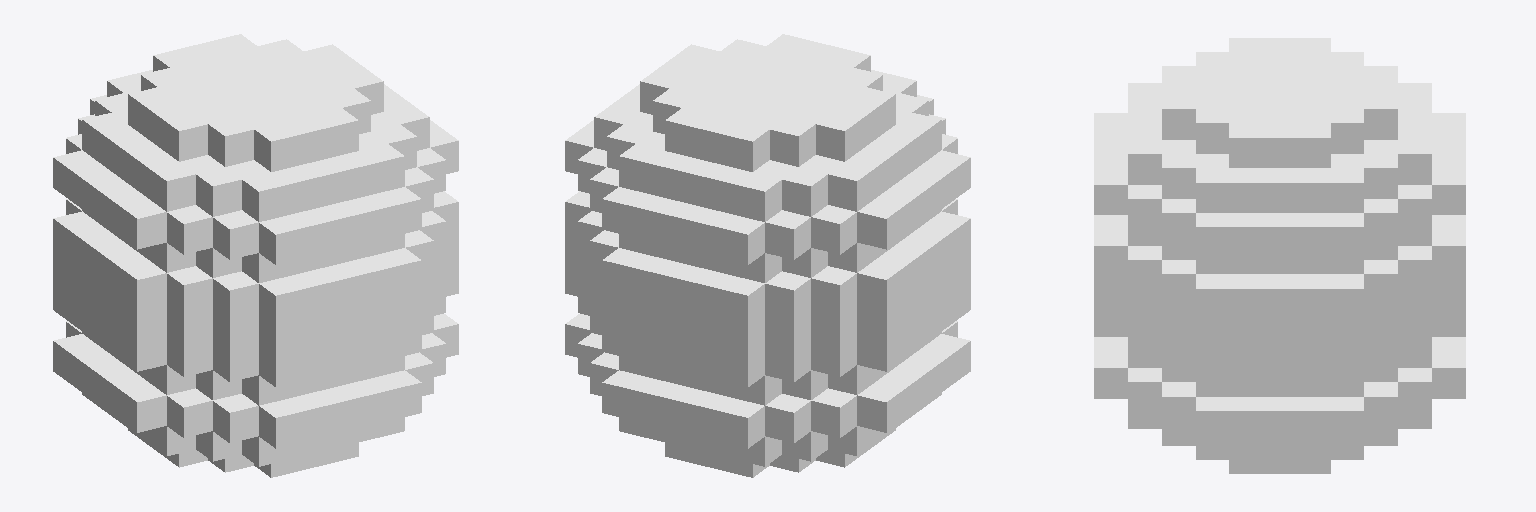
The model's file is barrel_1.obj.
3 views of the same model, side by side, from view 1: azimuth 30°, elevation 25°; view 2: azimuth 150°, elevation 25°; view 3: azimuth 270°, elevation 25° (orthographic).
Parts seen in each view (by area): view 1: object 1; view 2: object 1; view 3: object 1.
Boxes of the visible parts, x1,y1,x2,y2 form: object 1: [53, 34, 458, 477]; object 1: [565, 34, 970, 477]; object 1: [1094, 38, 1465, 473].
Bounding box in the file's own units: 1.1 × 1.1 × 1.1.